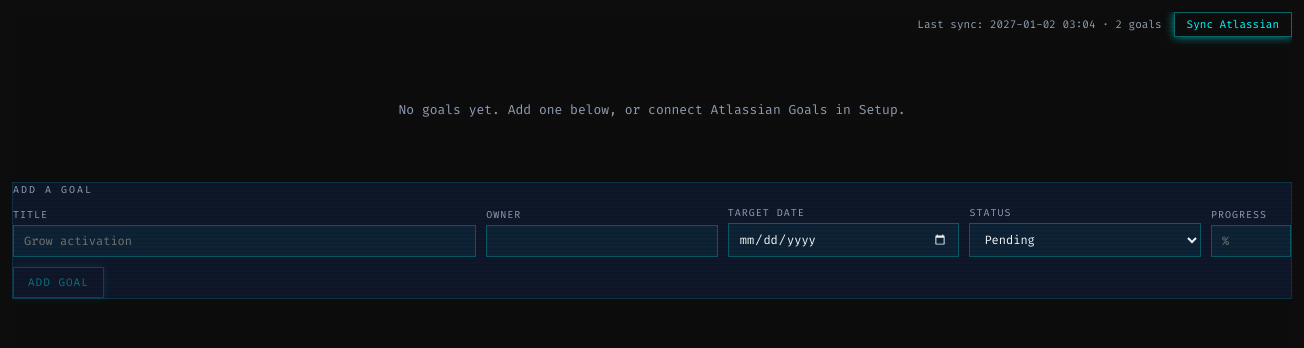
Scenario: sync button appears when configured, syncs, reports and reloads
This screenshot has width=1304, height=348.
Expected: the text "Last sync: 2027-01-02 03:04 · 2 goals" is shown, 917,17 -> 1162,32
Click the button "Sync Atlassian".
click(1233, 24)  # box 1174,12 -> 1292,37
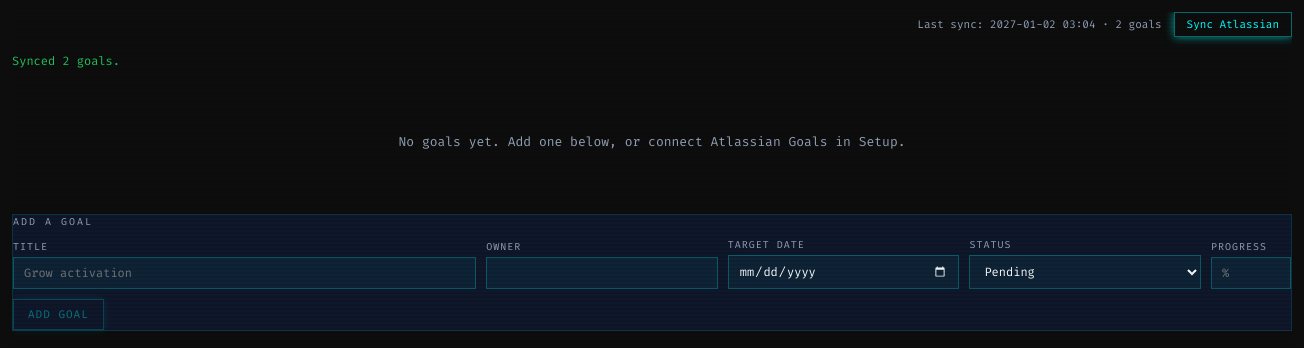
Now the text "Synced 2 goals." is shown, box 12,53 -> 120,69
